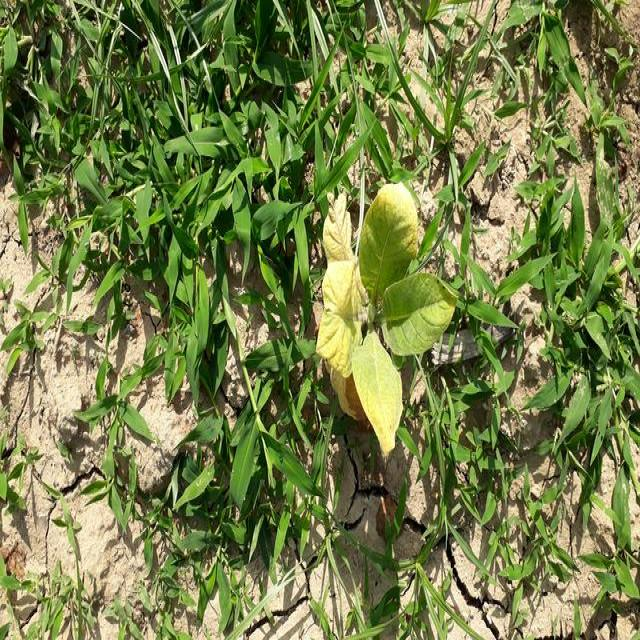crop: (322, 184, 456, 459)
